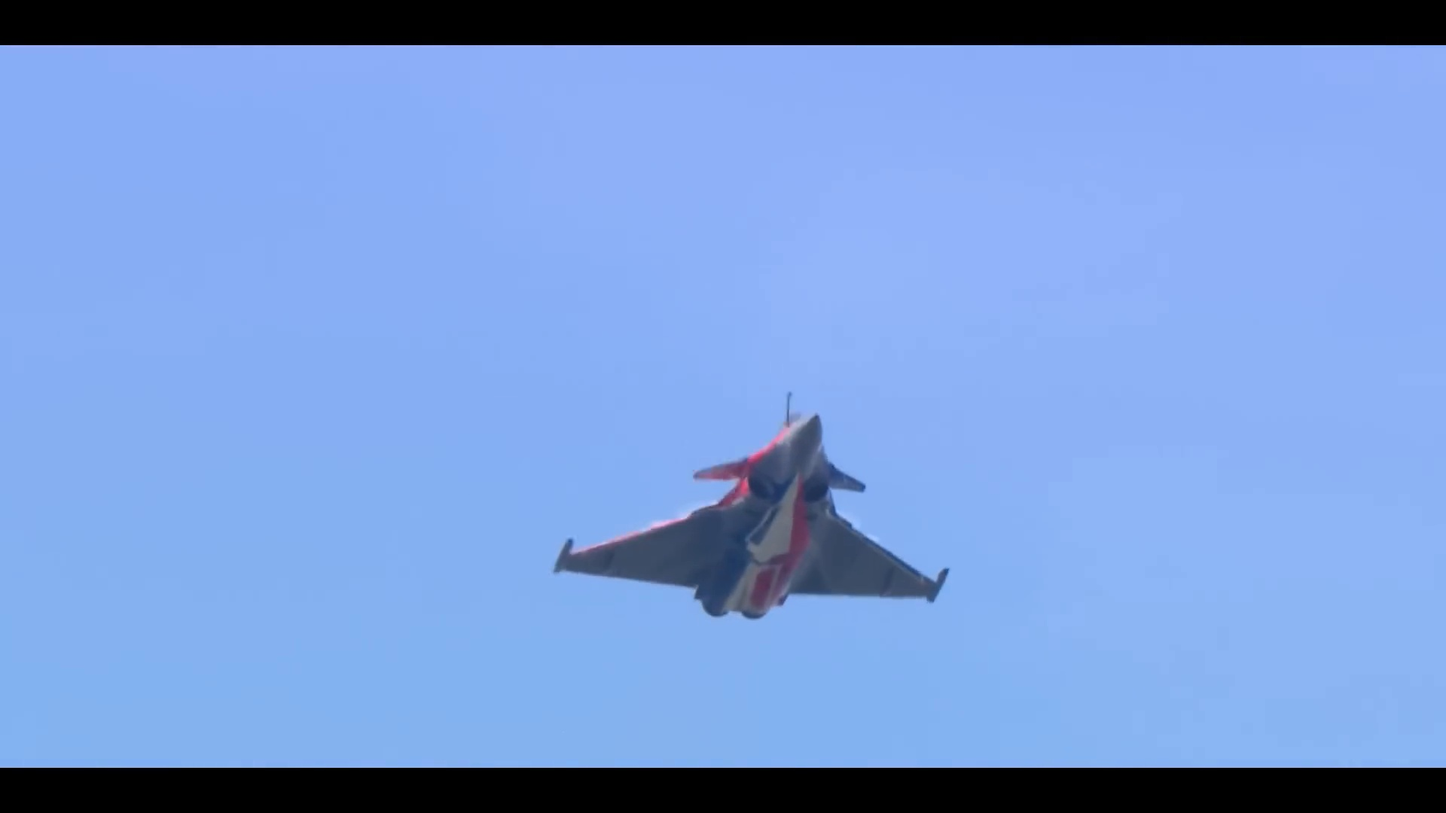Rafale: (550, 384, 955, 623)
